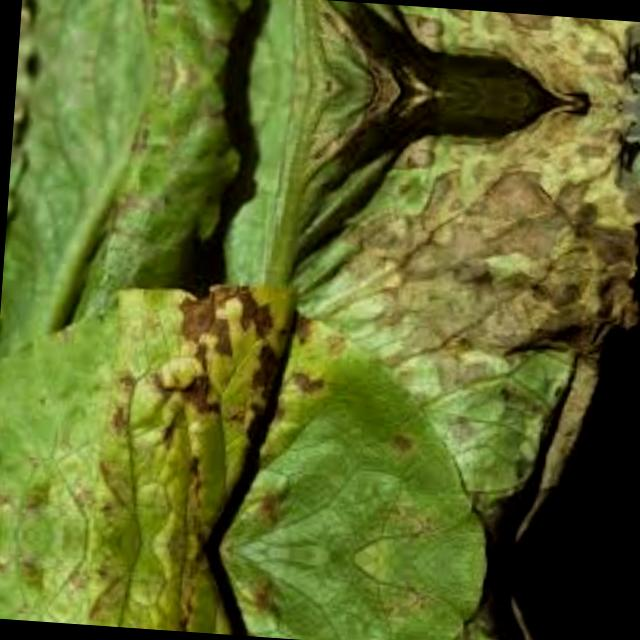Downy_mildew: (3, 264, 490, 566), (290, 92, 640, 429), (0, 531, 471, 640), (313, 0, 640, 100)
